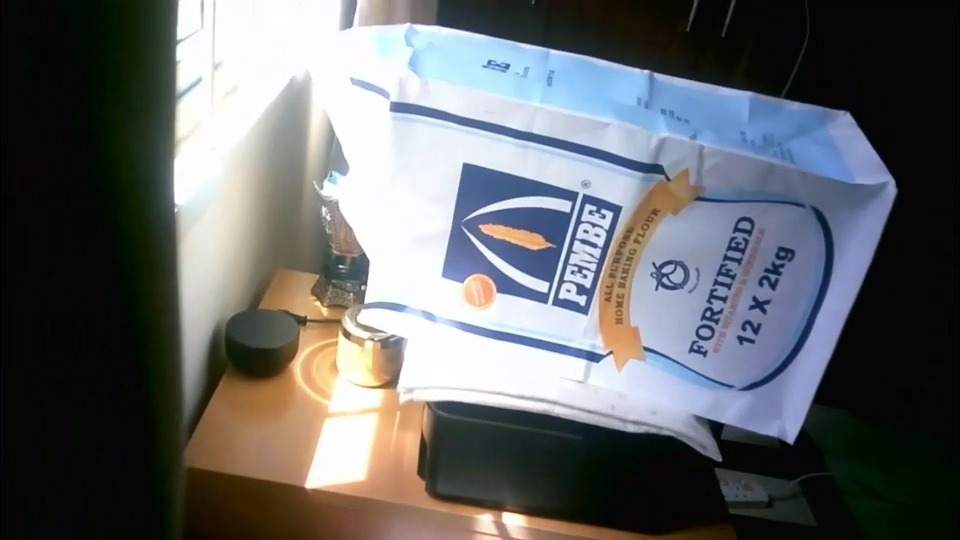wheat_flour_blue_label: (344, 23, 895, 451)
